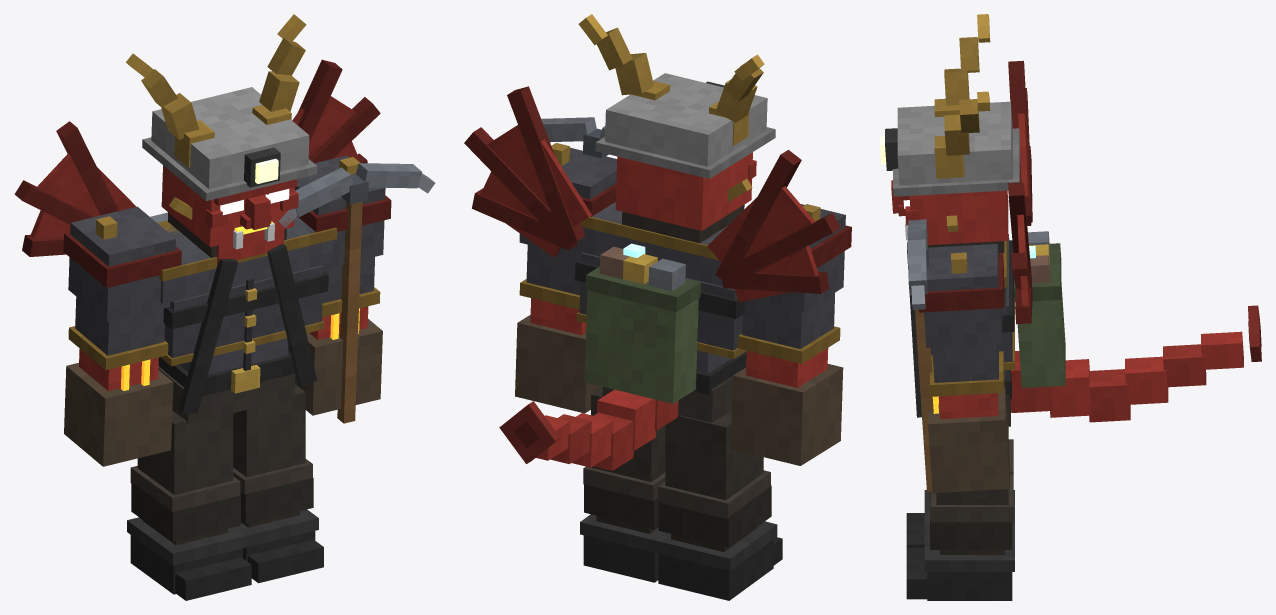
File: demon_mineur.glb
3 renders of one model, left to right at view 1: azimuth 30°, elevation 25°; view 2: azimuth 150°, elevation 25°; view 3: azimuth 270°, elevation 25°, orthographic. The views are drawn at different scales.
Visible parts, largest first — view 1: Torso, Head, ArmR, LegR, LegL, ArmL, HandL; view 2: Torso, Head, ArmR, LegR, ArmL, LegL, HandL; view 3: Torso, ArmL, Head, LegL, HandL, LegR.
Boxes of the visible parts, x1=… form: Torso: x1=14, y1=59, x2=380, y2=423; Head: x1=126, y1=14, x2=317, y2=263; ArmR: x1=63, y1=206, x2=181, y2=466; LegR: x1=127, y1=411, x2=251, y2=600; LegL: x1=233, y1=384, x2=323, y2=583; ArmL: x1=288, y1=155, x2=391, y2=415; HandL: x1=278, y1=163, x2=435, y2=423; Torso: x1=464, y1=86, x2=840, y2=470; Head: x1=578, y1=14, x2=775, y2=243; ArmR: x1=730, y1=204, x2=851, y2=465; LegR: x1=654, y1=411, x2=782, y2=600; ArmL: x1=515, y1=143, x2=616, y2=413; LegL: x1=580, y1=386, x2=665, y2=582; HandL: x1=541, y1=117, x2=608, y2=158; Torso: x1=908, y1=60, x2=1261, y2=426; ArmL: x1=919, y1=244, x2=1009, y2=492; Head: x1=880, y1=14, x2=1019, y2=253; LegL: x1=906, y1=426, x2=1014, y2=600; HandL: x1=907, y1=219, x2=933, y2=491; LegR: x1=906, y1=439, x2=1014, y2=547.
Size of the model in its own units: 1.6 by 2.2 by 1.48.
Materials: 47 (47 with a texture image).
